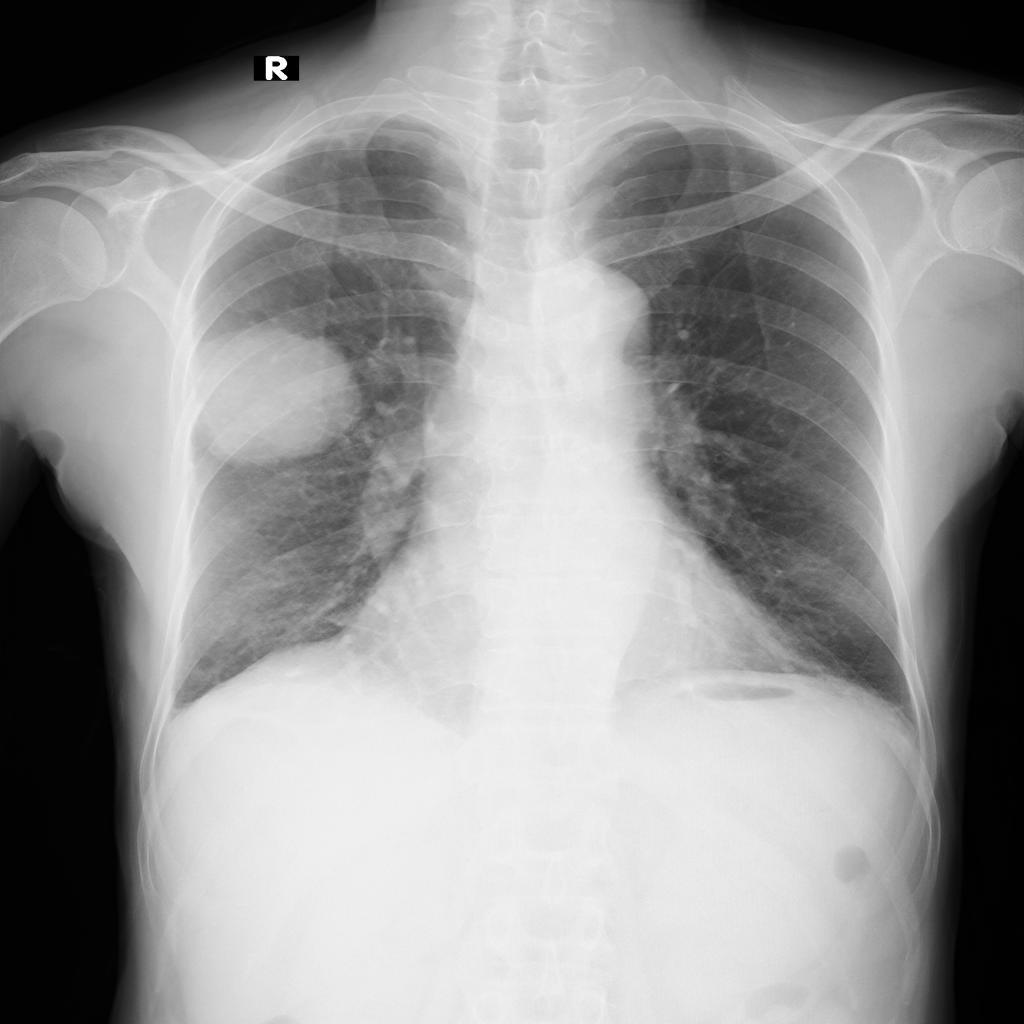Nodule: (200, 331, 365, 469)
